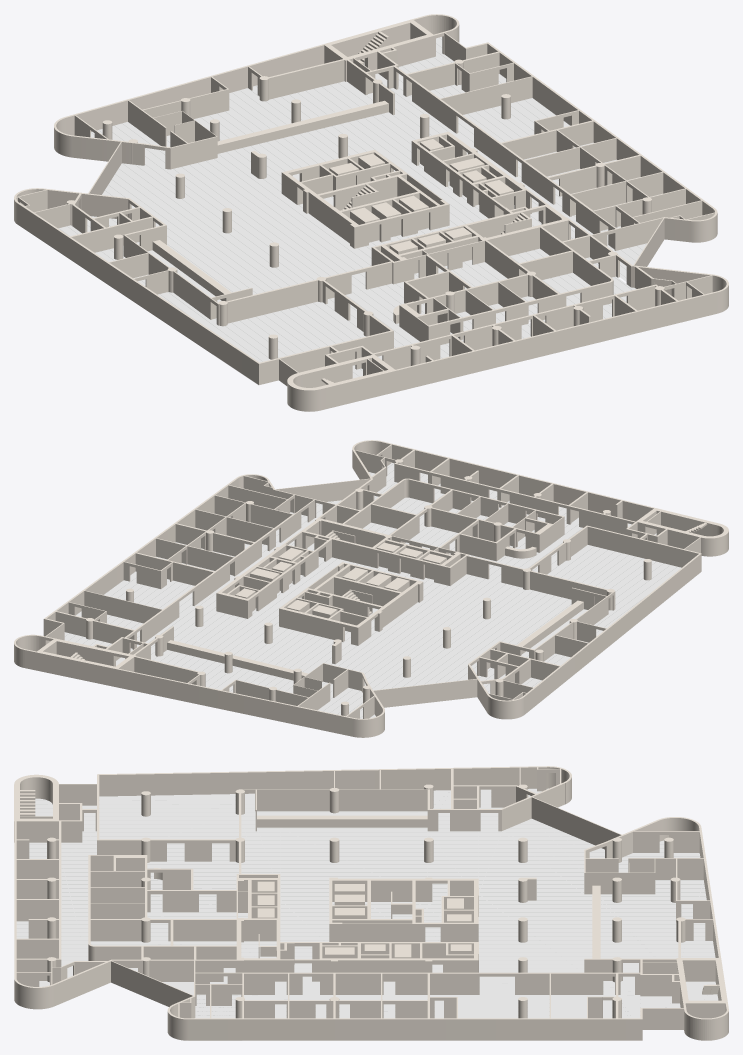
3 views of the same model, one above another, from view 1: azimuth 30°, elevation 25°; view 2: azimuth 150°, elevation 25°; view 3: azimuth 270°, elevation 25° (orthographic). The views are drawn at different scales.
Parts seen in each view (by area): view 1: Box291, Plane024, Plane018, Line160, Line157, Line170, Plane002, Plane023, Line165, Line168, Plane019, Line156 (+4 smaller); view 2: Box291, Plane024, Plane018, Line160, Line170, Plane002, Line157, Plane023, Plane019, Plane025, Line165, Plane022 (+5 smaller); view 3: Box291, Plane018, Plane024, Line160, Line157, Plane002, Line170, Plane013, Plane023, Line168, Line165, Plane021 (+17 smaller).
Part boxes in pixels (box(x1,y1,x2,y2)): Box291: box(14, 14, 728, 411); Plane024: box(169, 213, 371, 294); Plane018: box(217, 112, 420, 196); Line160: box(158, 292, 366, 362); Line157: box(166, 73, 387, 146); Line170: box(141, 158, 269, 224); Plane002: box(406, 74, 662, 220); Plane023: box(155, 193, 304, 246); Line165: box(327, 282, 421, 348); Line168: box(102, 163, 170, 208); Plane019: box(394, 162, 488, 227); Line156: box(91, 122, 165, 168); Box291: box(14, 440, 728, 737); Plane024: box(382, 584, 559, 654); Plane018: box(178, 612, 367, 673); Line160: box(547, 545, 681, 636); Line170: box(342, 648, 467, 689); Plane002: box(75, 513, 280, 646); Line157: box(116, 650, 332, 699); Plane023: box(358, 630, 480, 674); Plane019: box(248, 557, 362, 626); Plane025: box(450, 579, 569, 612); Line165: box(468, 534, 571, 582); Plane022: box(460, 574, 611, 612); Box291: box(14, 766, 728, 1040); Plane018: box(478, 894, 592, 979); Plane024: box(280, 827, 427, 899); Line160: box(99, 793, 254, 861); Line157: box(600, 880, 715, 980); Plane002: box(244, 994, 615, 1018); Line170: box(478, 831, 584, 894); Plane013: box(61, 861, 88, 964); Plane023: box(427, 831, 478, 899); Line168: box(502, 818, 604, 870); Line165: box(147, 861, 238, 911); Plane021: box(280, 900, 329, 941).
Size of the model in its own units: 50.9 by 2 by 60.7.
Materials: 2 (2 with a texture image).
